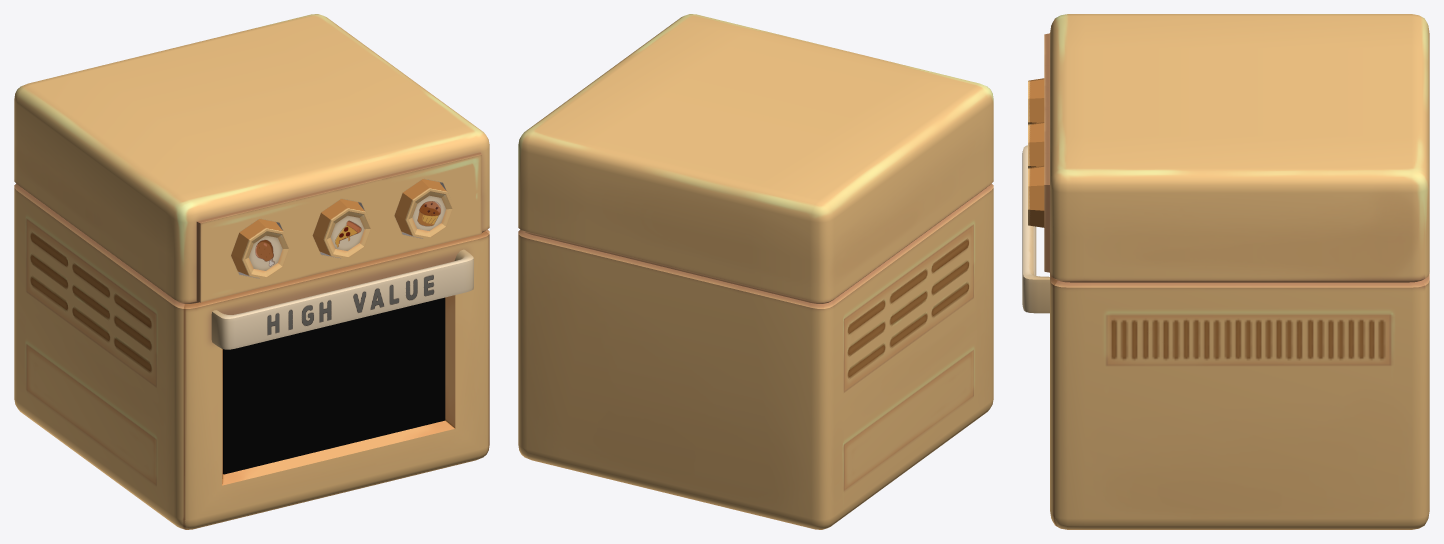
Rendered from 아이템블럭.fbx.
The picture shows the model from 3 angles, left to right: view 1: azimuth 30°, elevation 25°; view 2: azimuth 150°, elevation 25°; view 3: azimuth 270°, elevation 25°; orthographic projection. The views are drawn at different scales.
Parts seen in each view (by area): view 1: Box002, Object026; view 2: Box002; view 3: Box002.
Boxes of the visible parts, x1,y1,x2,y2 form: Box002: (14, 14, 489, 529); Object026: (223, 297, 445, 474); Box002: (518, 14, 993, 529); Box002: (1022, 14, 1429, 529).
Bounding box in the file's own units: 100 × 100 × 103.
